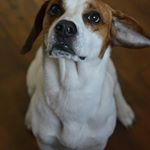puppy: (29, 1, 139, 149)
